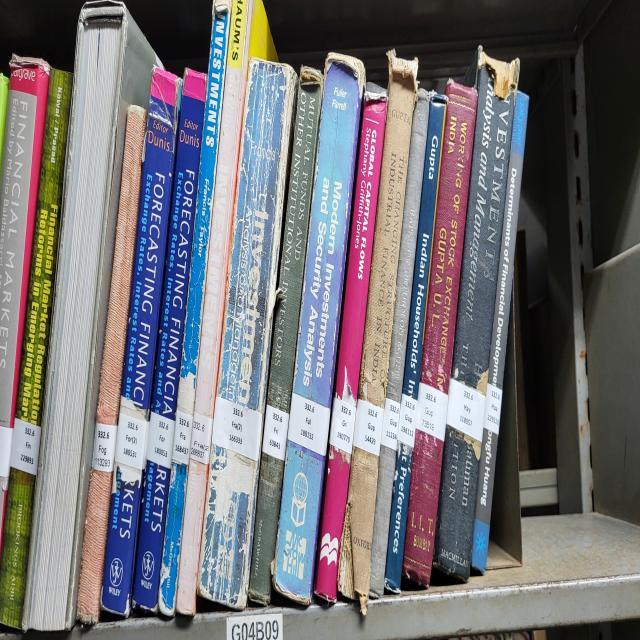Book: (198, 57, 296, 609), (272, 54, 365, 606), (176, 0, 252, 614), (338, 49, 418, 614), (434, 54, 519, 582), (158, 0, 230, 617), (101, 68, 180, 617), (249, 68, 322, 603), (402, 81, 478, 587), (315, 84, 388, 601), (78, 106, 146, 622), (370, 89, 430, 598), (471, 92, 529, 571), (0, 54, 50, 547), (16, 68, 72, 427), (151, 73, 205, 422), (402, 95, 446, 400), (131, 170, 132, 176), (64, 154, 65, 157)
Label: (212, 395, 262, 460), (288, 392, 330, 457), (446, 379, 486, 441), (330, 365, 356, 455), (115, 411, 149, 471), (416, 381, 448, 441), (10, 417, 41, 476), (354, 398, 384, 457), (146, 411, 175, 468), (262, 403, 289, 460), (92, 422, 118, 473), (190, 411, 212, 465), (172, 409, 192, 465), (398, 395, 418, 449), (381, 398, 400, 449), (484, 384, 502, 436)
